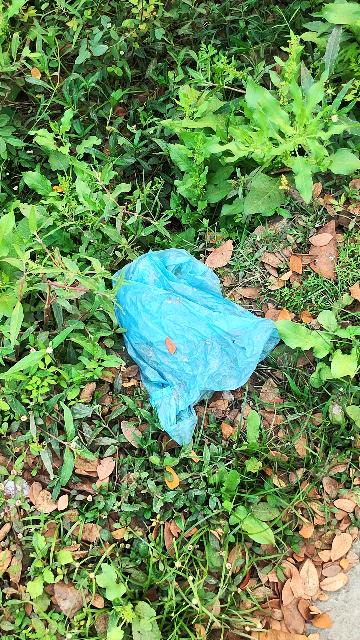polythene: (107, 252, 282, 436)
